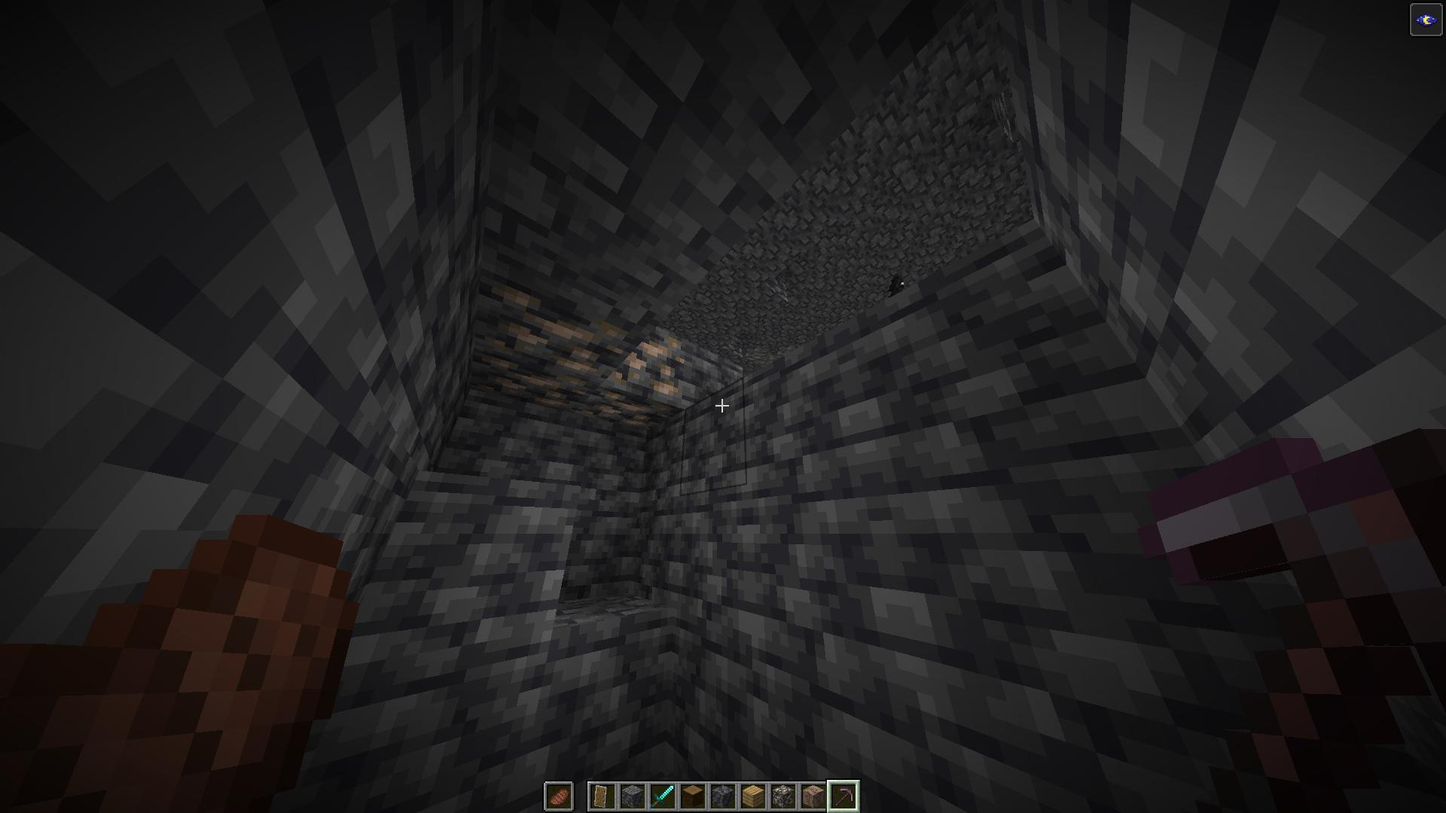iron ore: (465, 283, 613, 404), (594, 330, 682, 428)
